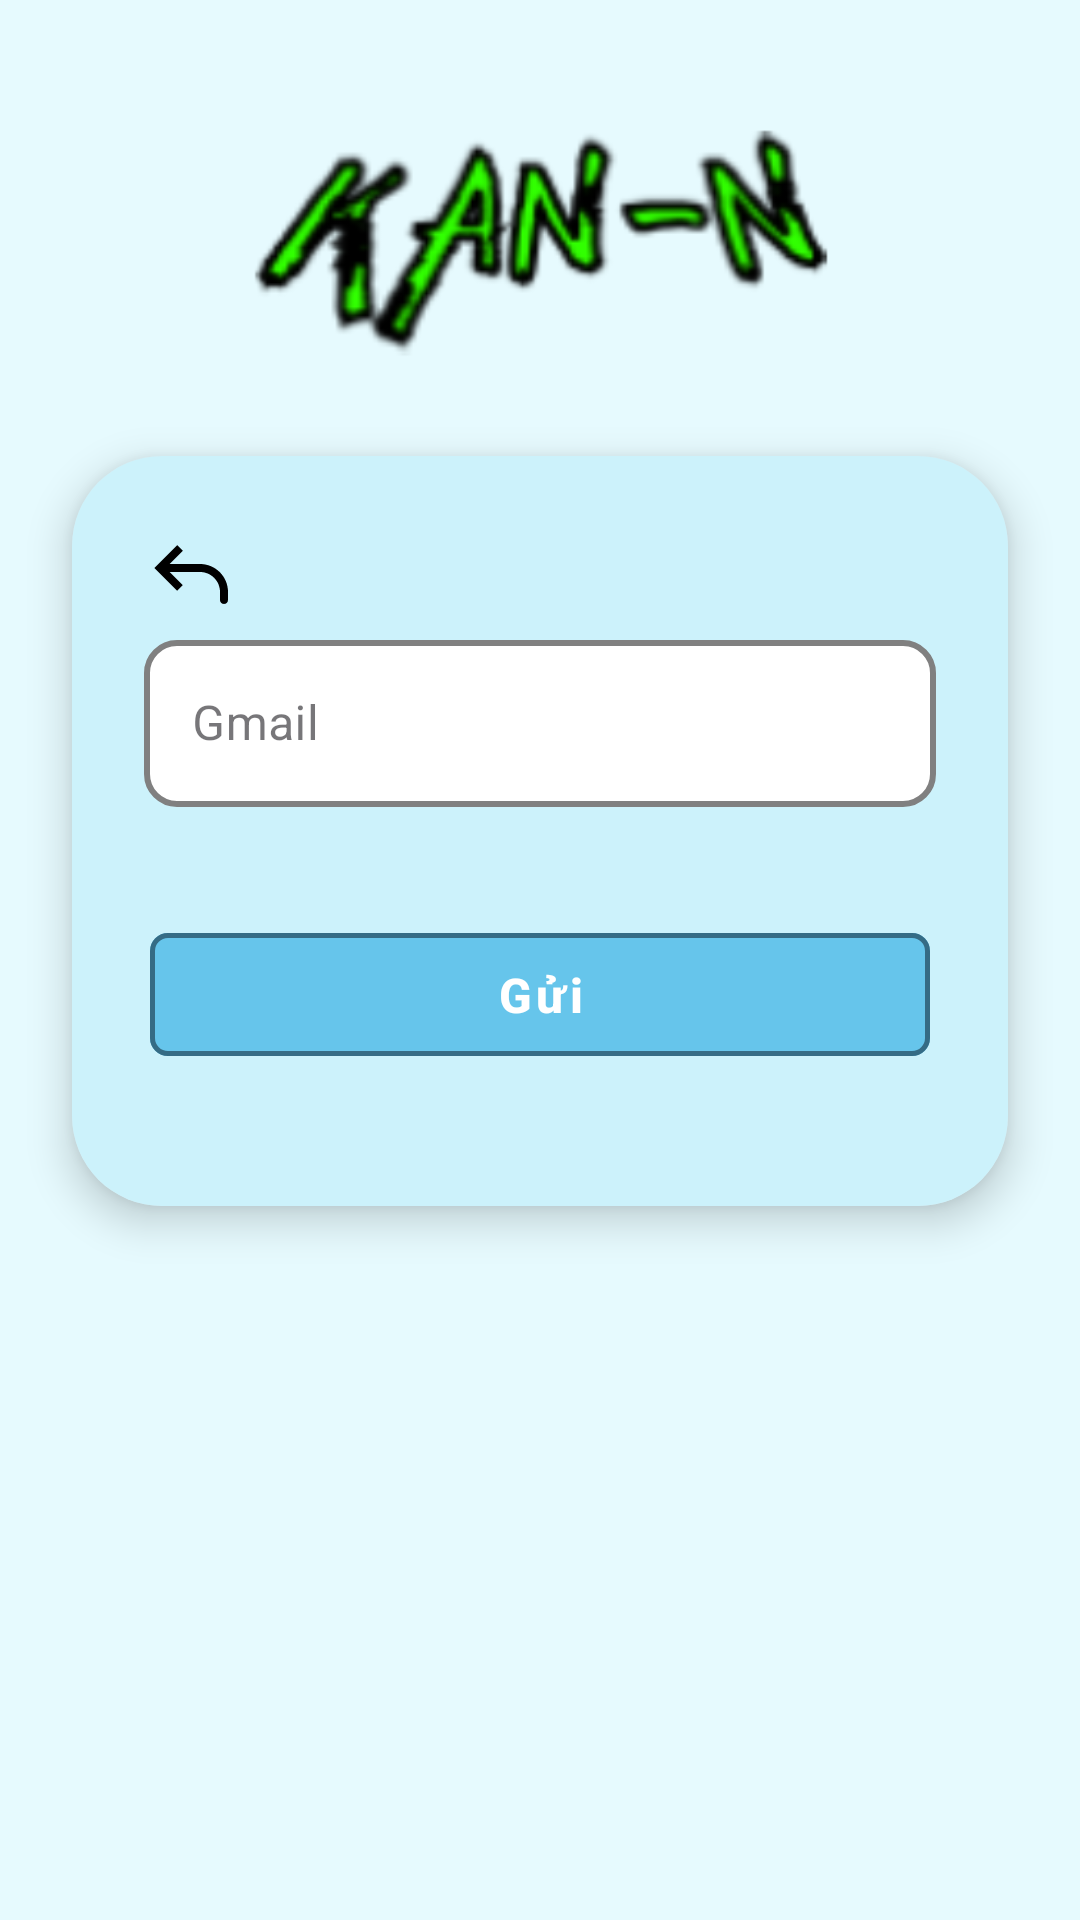

Named icons in this screenshot (1080w x 1920h) and their bounding boxes, (x1, y1, x2, y2):
Quay lại: (154, 545, 228, 604)
